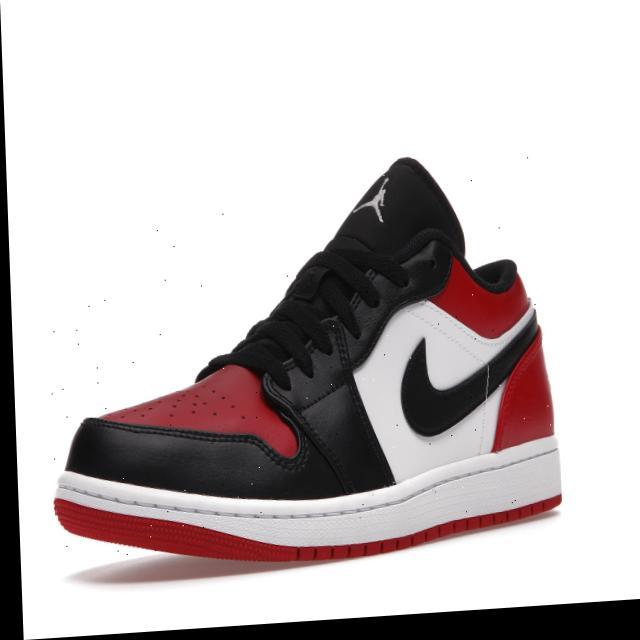J1_InsoleChar: (52, 154, 564, 565)
J1_ShoeLogo: (398, 302, 540, 438)
J1_ShoeShape: (194, 155, 466, 388)
J1_StitchPattern: (52, 476, 563, 563), (196, 238, 409, 387), (291, 492, 562, 562), (82, 414, 307, 473), (311, 249, 383, 311), (350, 172, 394, 225), (320, 313, 356, 370)
